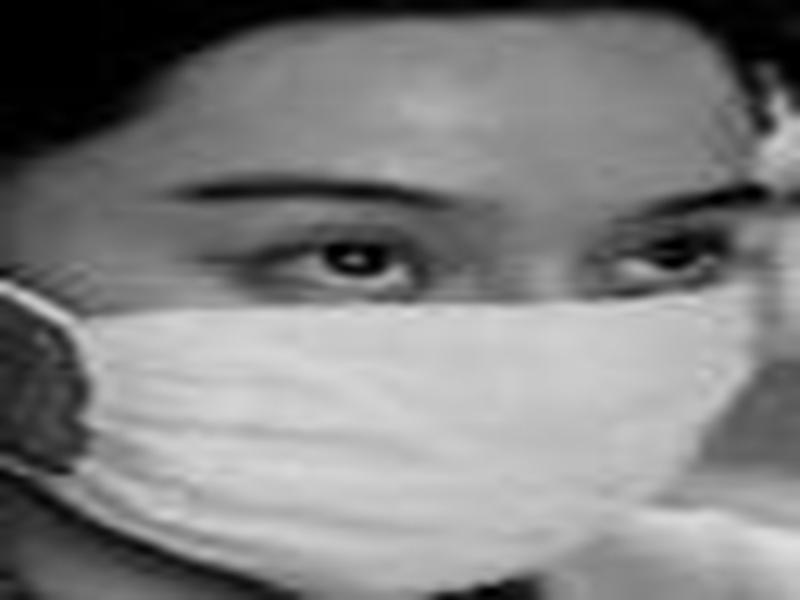with_mask: (1, 20, 770, 600)
